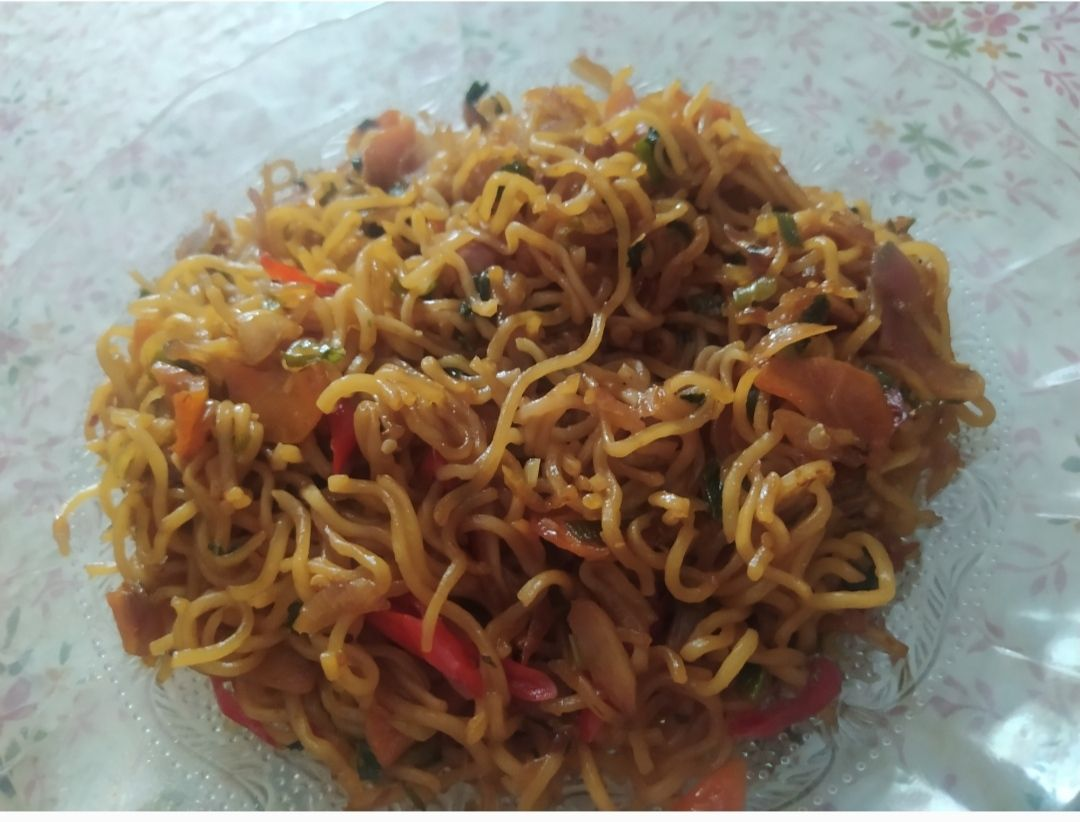Mie: (76, 116, 971, 775)
